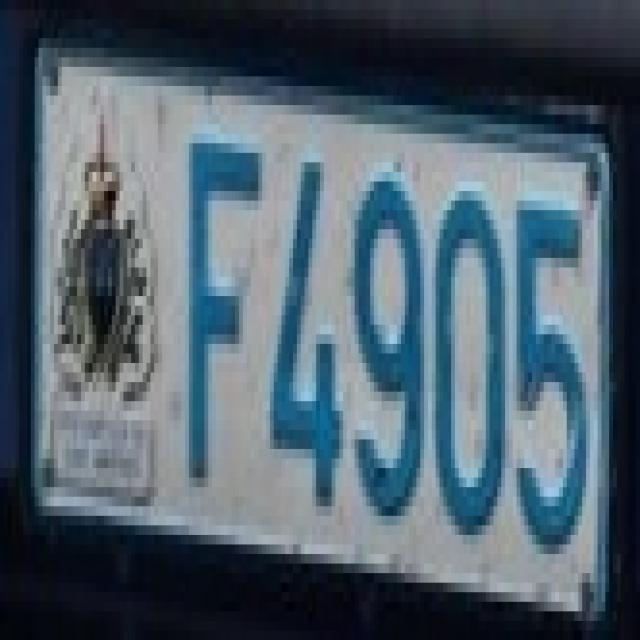0: (416, 162, 513, 535)
4: (247, 134, 347, 506)
5: (498, 162, 598, 544)
9: (335, 153, 432, 516)
F: (162, 105, 274, 487)
